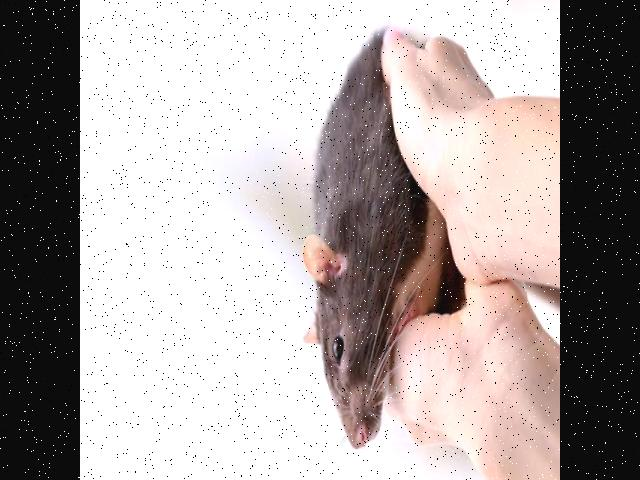Tikus: (300, 25, 444, 451)
